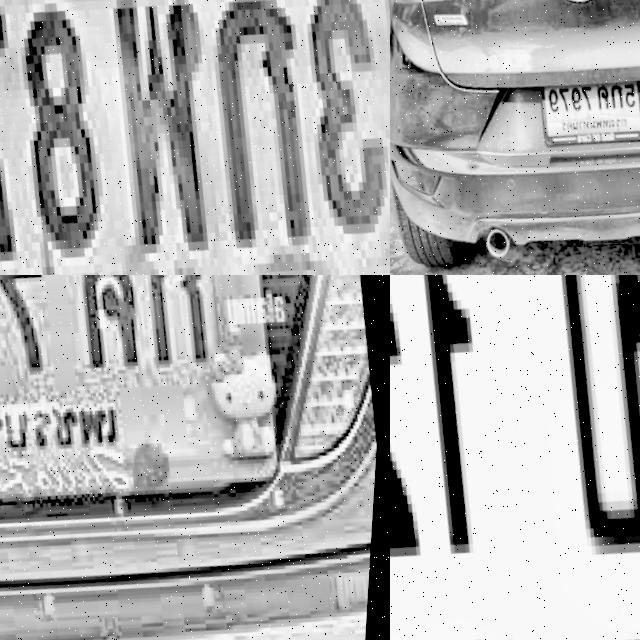license-plate: (0, 0, 390, 275), (0, 275, 338, 588), (390, 275, 640, 640), (528, 46, 640, 158)
